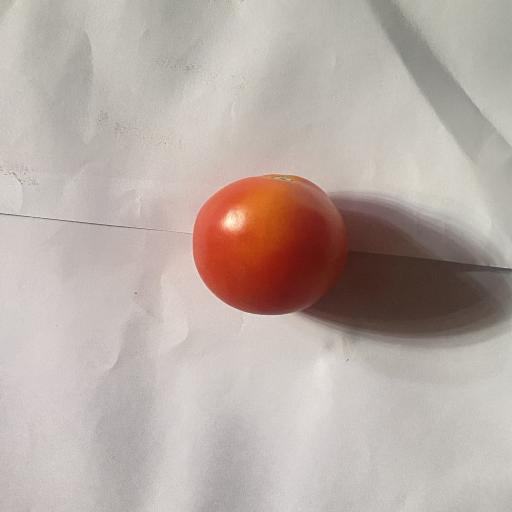ripe: (193, 175, 348, 315)
